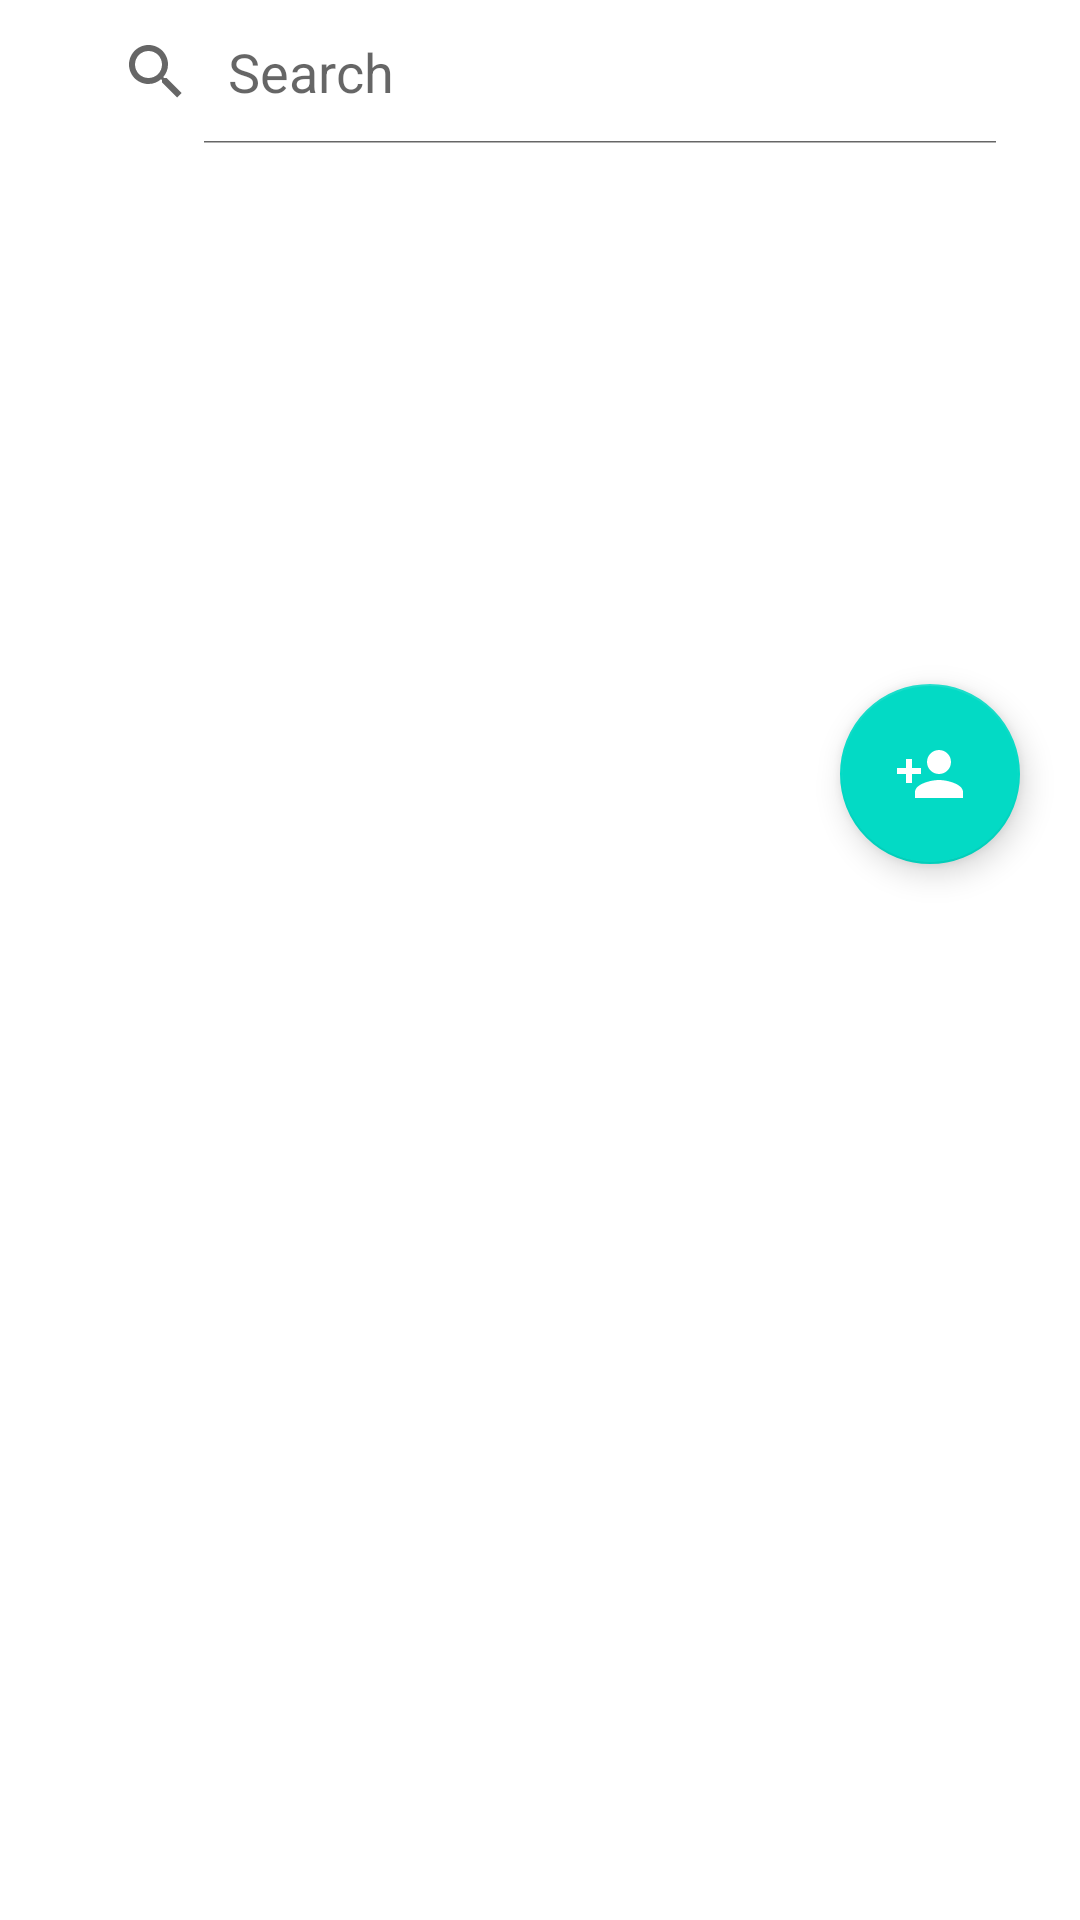

Screen size 1080w x 1920h. Icon name, then its center in pixels as (x,y):
add: (930,774)
